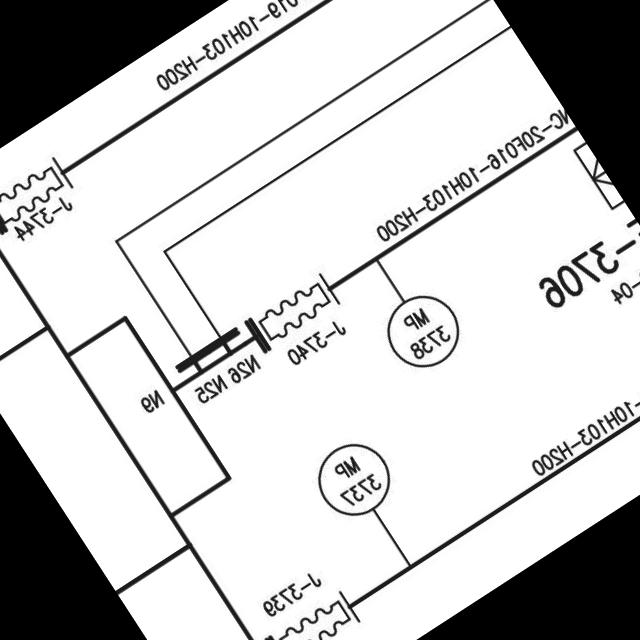EJ: (244, 262, 347, 352), (0, 146, 81, 234), (262, 577, 372, 640)
